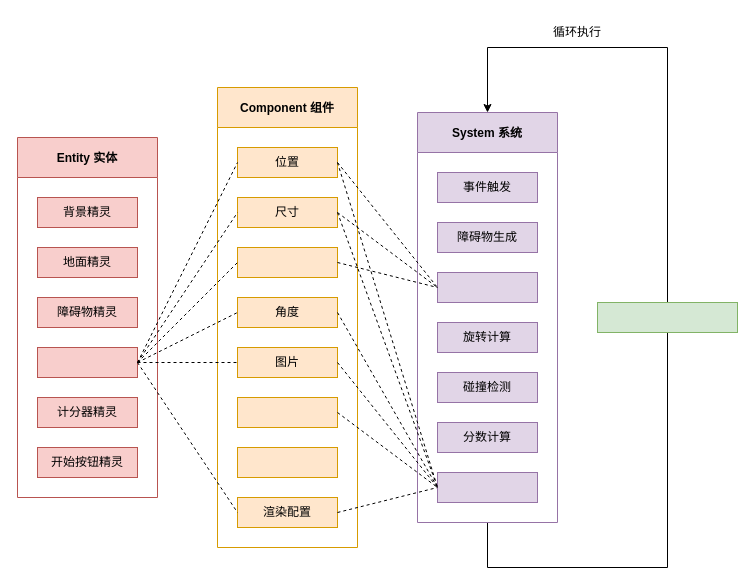
Some shapes in this 755 by 586 pixel diagram are drawn without their labels. The centre of each missing label's shape, as x and y in pixels:
canvas渲染: the point at 487,487
requestAnimationFrame: the point at 667,317
小鸟精灵: the point at 87,362
得分: the point at 287,462
文本: the point at 287,412
速度: the point at 287,262
速度计算: the point at 487,287
